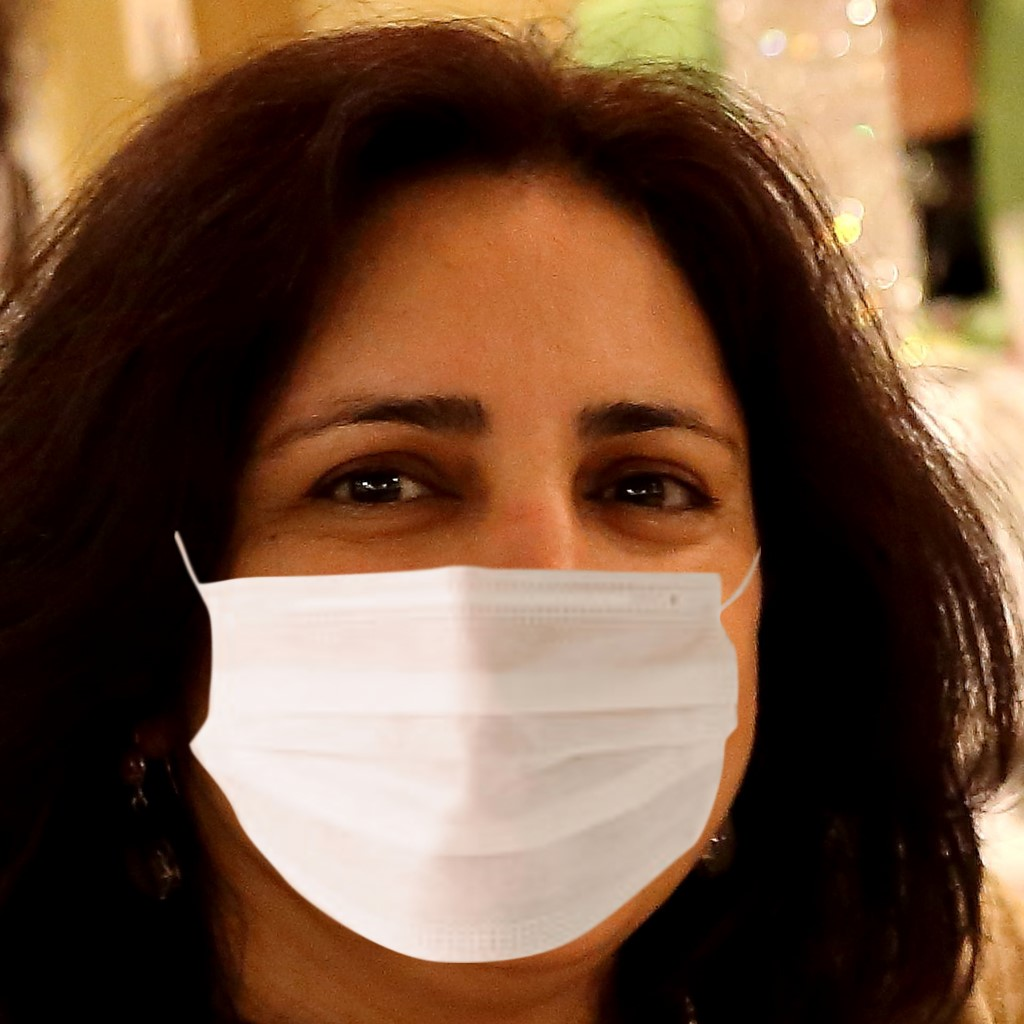con_mascara: (154, 204, 752, 975)
